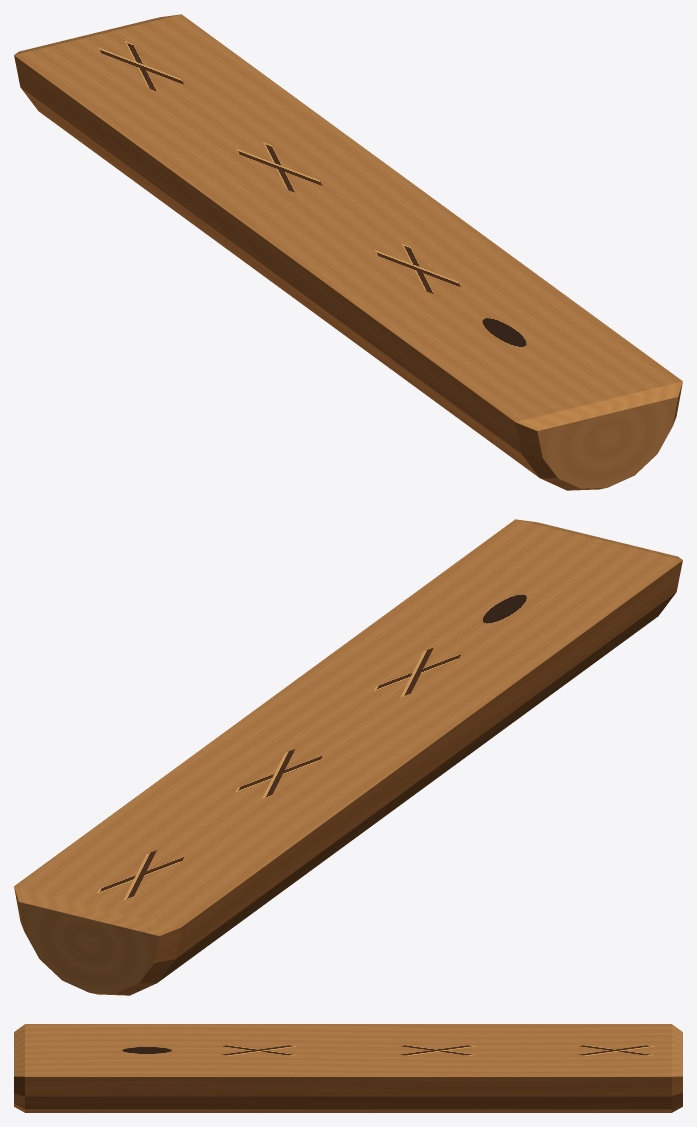
The model's file is Yut_BackDo.obj.
3 views of the same model, one above another, from view 1: azimuth 30°, elevation 25°; view 2: azimuth 150°, elevation 25°; view 3: azimuth 270°, elevation 25° (orthographic). The views are drawn at different scales.
Parts seen in each view (by area): view 1: Yut_BackDo; view 2: Yut_BackDo; view 3: Yut_BackDo.
Part boxes in pixels (x1,y1,x2,y2): Yut_BackDo: (14,14,682,490); Yut_BackDo: (14,519,682,995); Yut_BackDo: (14,1024,682,1112).
Size of the model in its own units: 0.056 by 0.028 by 0.3.
1 material, 1 textured.
